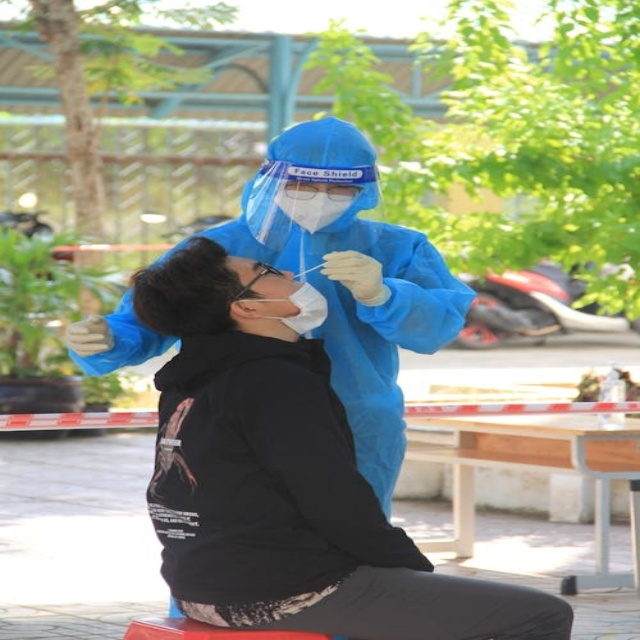Gafas: (224, 256, 289, 309), (278, 175, 365, 203)
Guantes: (320, 250, 389, 306), (64, 314, 112, 356)
Mascara: (273, 185, 358, 233), (265, 276, 330, 336)
